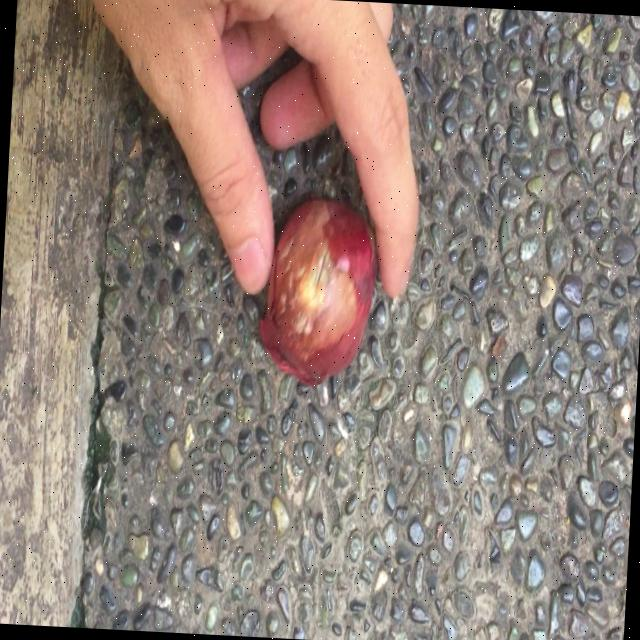Onion: (259, 199, 376, 386)
